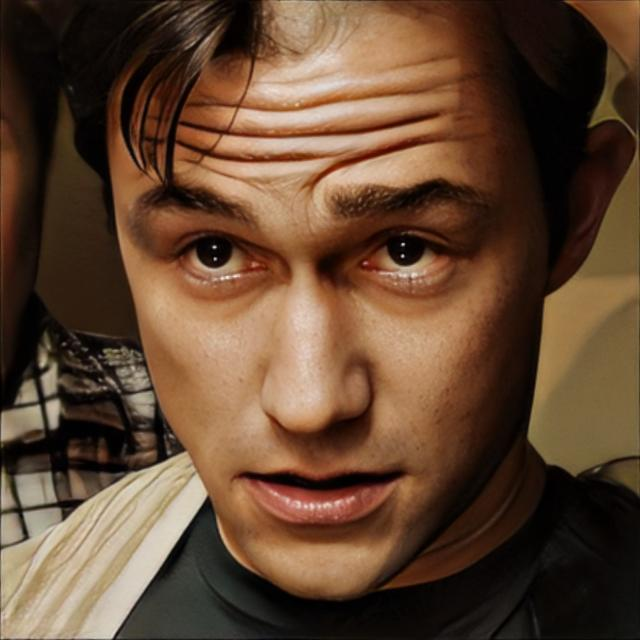surprise: (105, 2, 544, 605)
